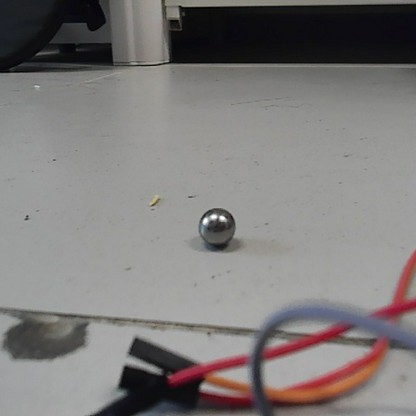ironball: (194, 203, 238, 249)
